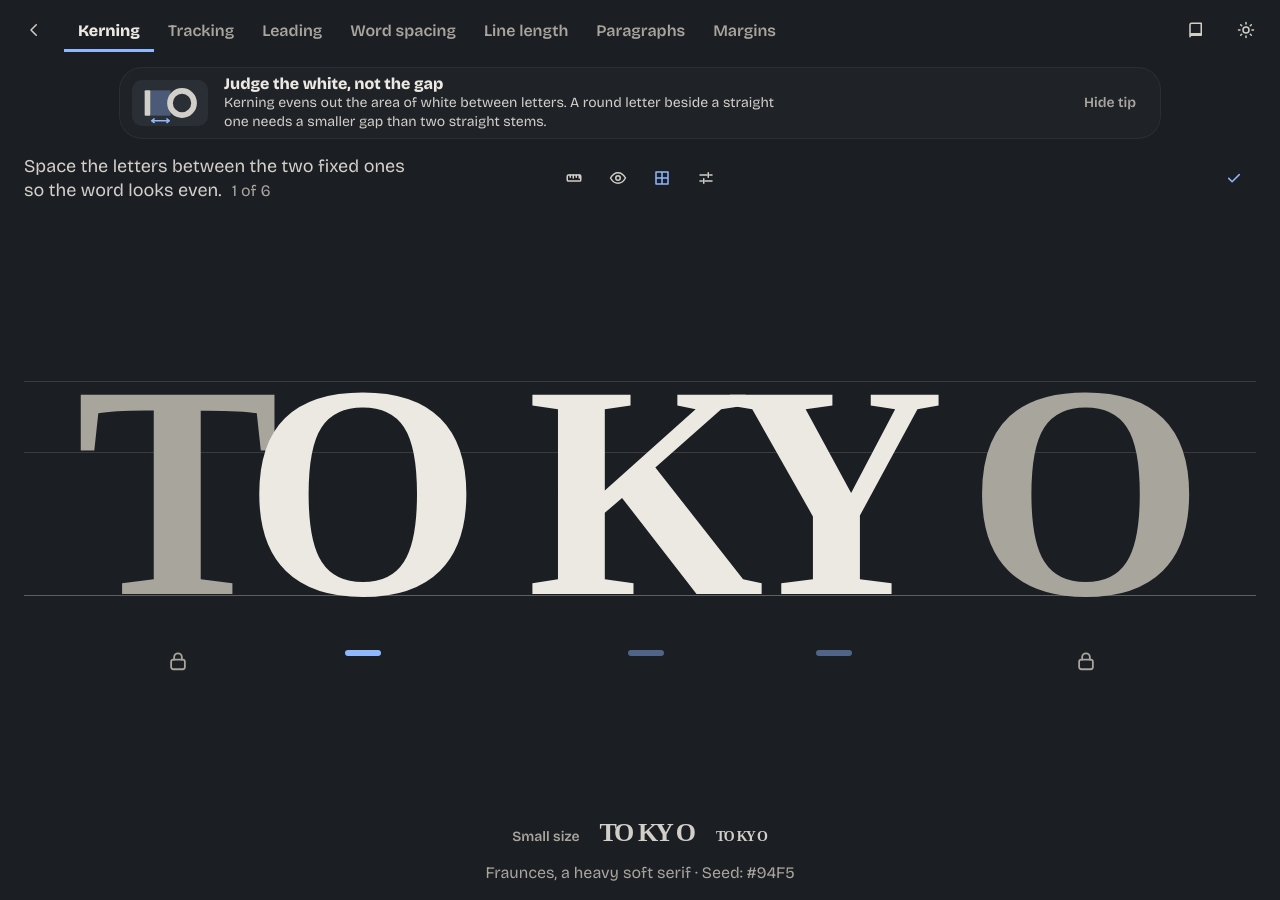
Test: Design Playground › pins the first and last letters, moves one letter at a time and keeps the word length
Expected: the number of icons with class "dp-pin" is 2, [166,650,188,672]; [1075,650,1097,672]
Expected: the number of elements with class "dp-kern-letter--pinned" is 2, [76,340,279,644]; [967,340,1204,644]
One key press moves one letter by one unit. The other letters stay where they are.
Press ArrowRight in the slider labelled "O", box [244,340,481,644]
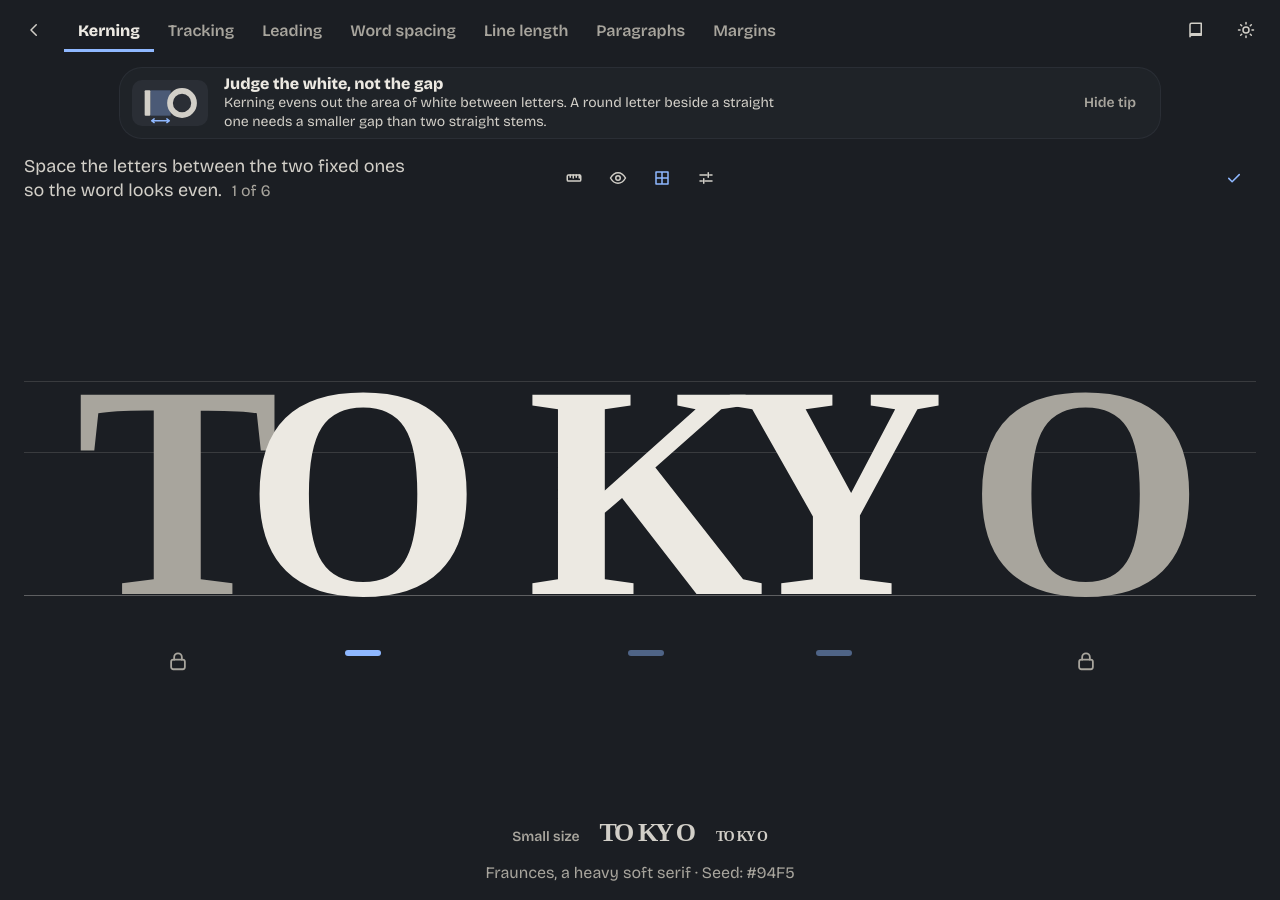
Press ArrowRight in the slider labelled "O", box [245,340,482,644]
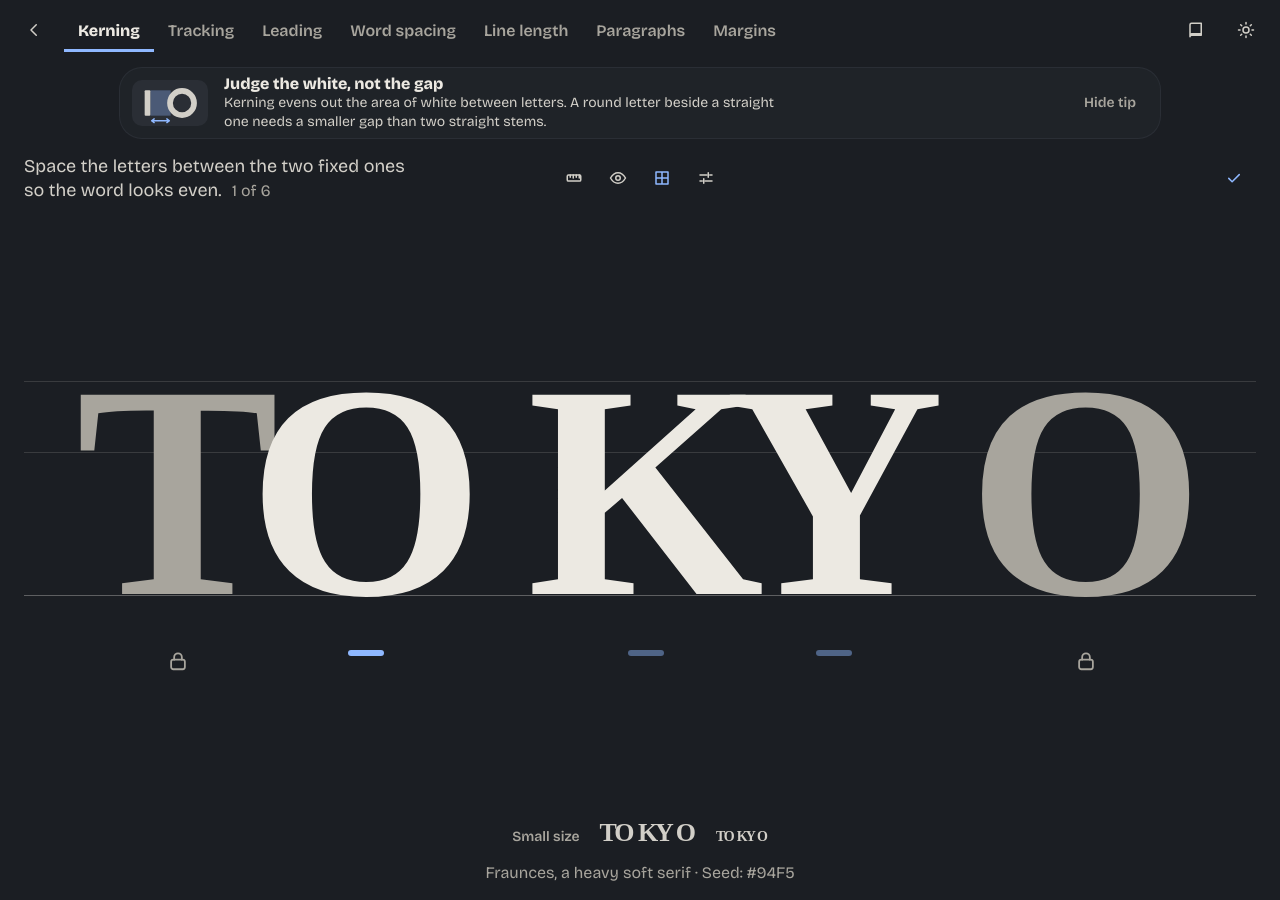
Pressing a fixed letter says why it does not move.
Press the mouse on the element with class "dp-kern-letter--pinned" showing "T": (178, 492) [76,340,279,644]
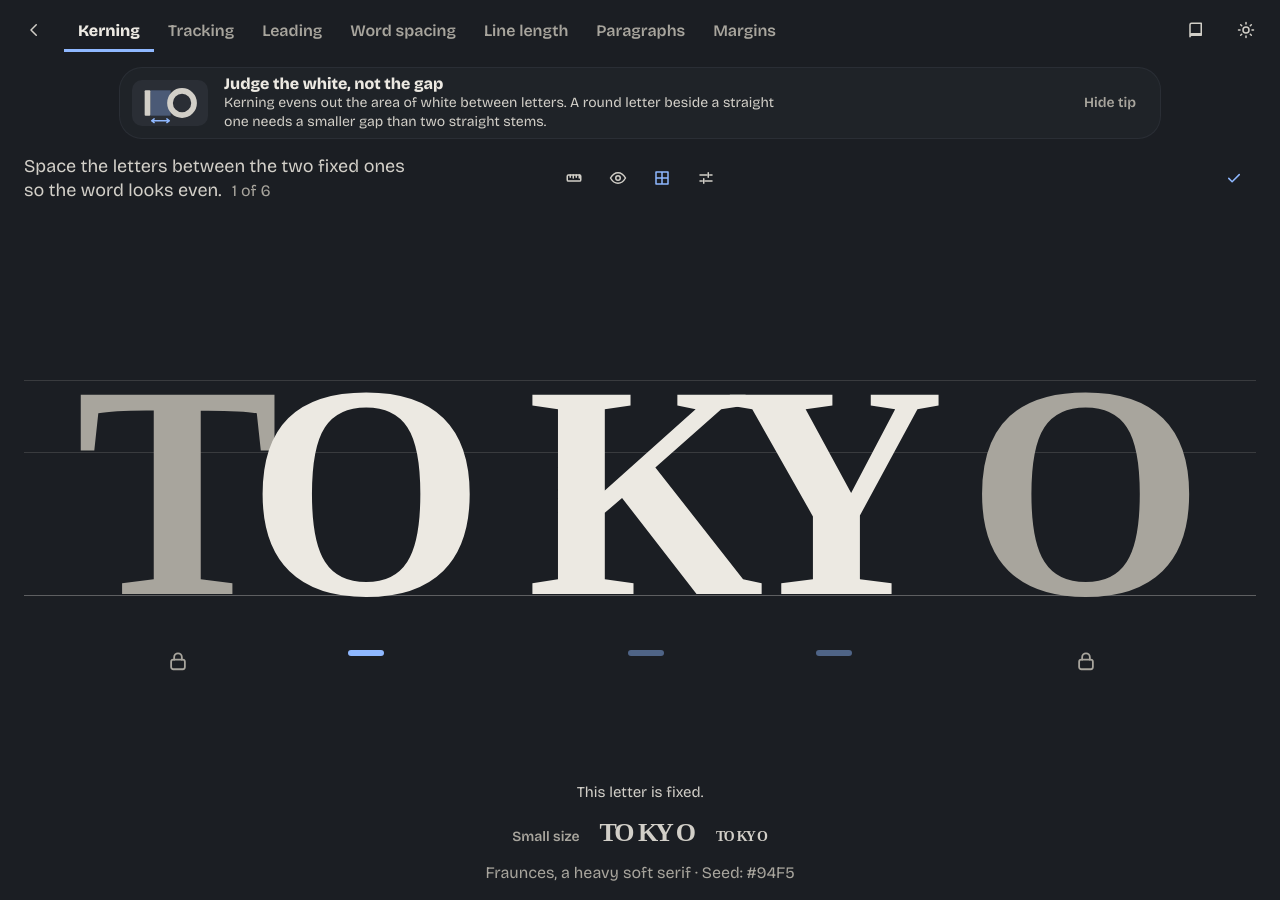
Expected: the message reads "This letter is fixed.", [577,783,703,801]
